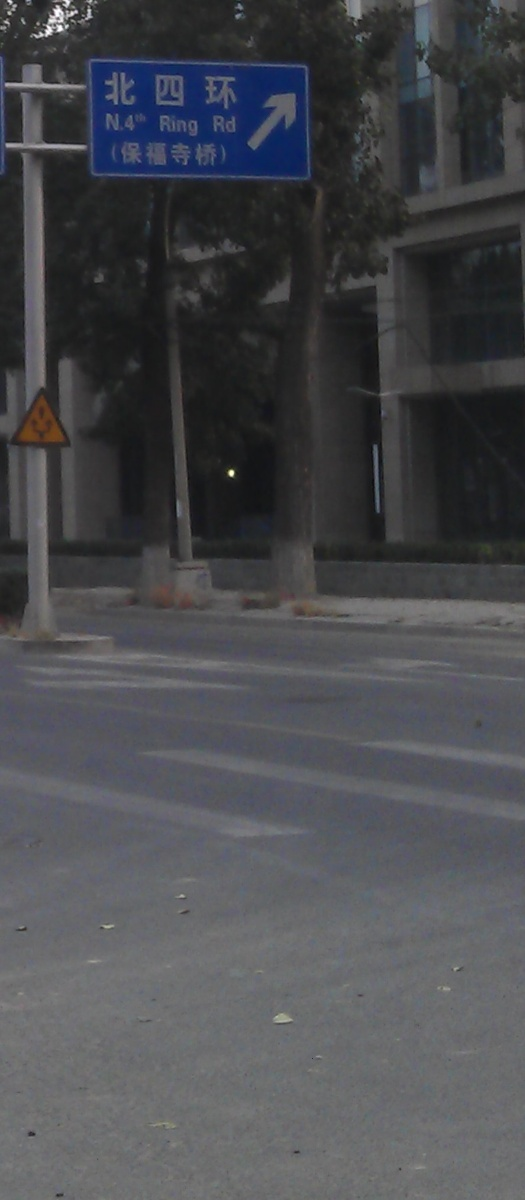text: (113, 71, 128, 111), (129, 71, 144, 111), (145, 71, 160, 111), (161, 71, 176, 111), (177, 71, 192, 111), (193, 71, 208, 111), (209, 71, 224, 111), (225, 71, 238, 111), (113, 143, 128, 168), (129, 143, 144, 168), (145, 143, 160, 168), (161, 143, 176, 168), (177, 143, 192, 168), (193, 143, 208, 168), (209, 143, 224, 168), (161, 115, 176, 137), (177, 115, 192, 137), (104, 71, 112, 111), (113, 113, 128, 132), (213, 116, 224, 134), (225, 116, 236, 134), (105, 113, 112, 132), (193, 115, 199, 137), (129, 113, 135, 132), (135, 114, 144, 122), (225, 143, 227, 168), (158, 115, 160, 137), (111, 143, 112, 168), (145, 114, 146, 122)
